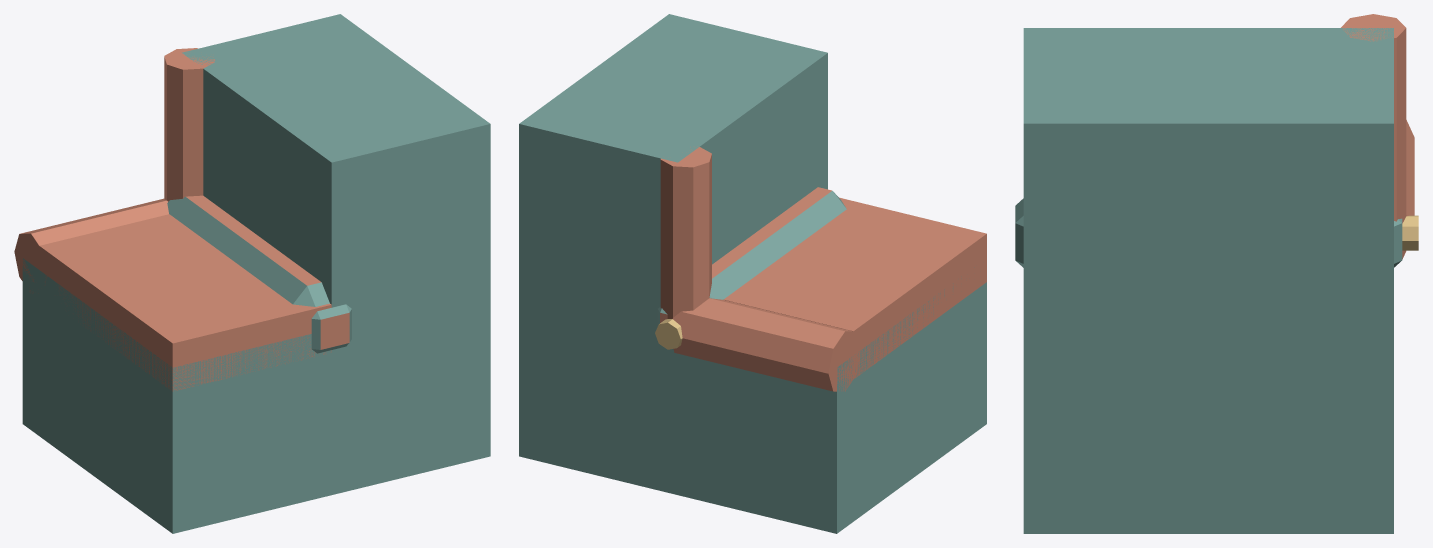
Rendered from TH_Tile_7.fbx.
3 views of the same model, side by side, from view 1: azimuth 30°, elevation 25°; view 2: azimuth 150°, elevation 25°; view 3: azimuth 270°, elevation 25° (orthographic). The views are drawn at different scales.
Visible parts, largest first — view 1: TH_Tile_7; view 2: TH_Tile_7; view 3: TH_Tile_7.
Part boxes in pixels (left/top/right/bottom): TH_Tile_7: left=14, top=14, right=490, bottom=533; TH_Tile_7: left=519, top=14, right=986, bottom=533; TH_Tile_7: left=1015, top=14, right=1418, bottom=533.
Size of the model in its own units: 1.1 by 1.1 by 0.98.
